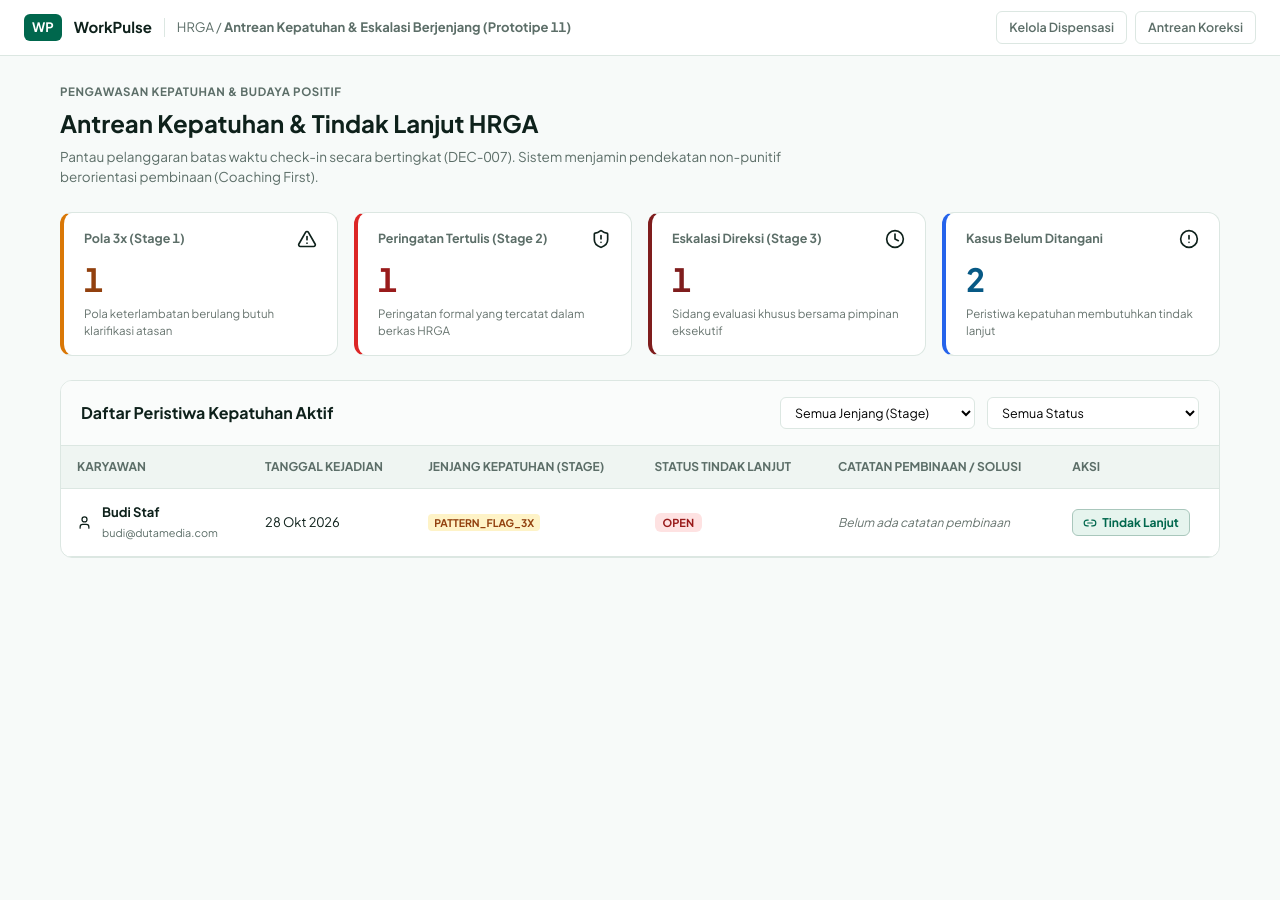
Scenario: ComplianceQueueView.vue (WP-EP08 / Prototipe 11 - Antrean Kepatuhan HRGA) › opens address follow-up modal when action button is clicked
Click the button with class "btn-action" at (1131, 522), box [1072,509,1190,536]
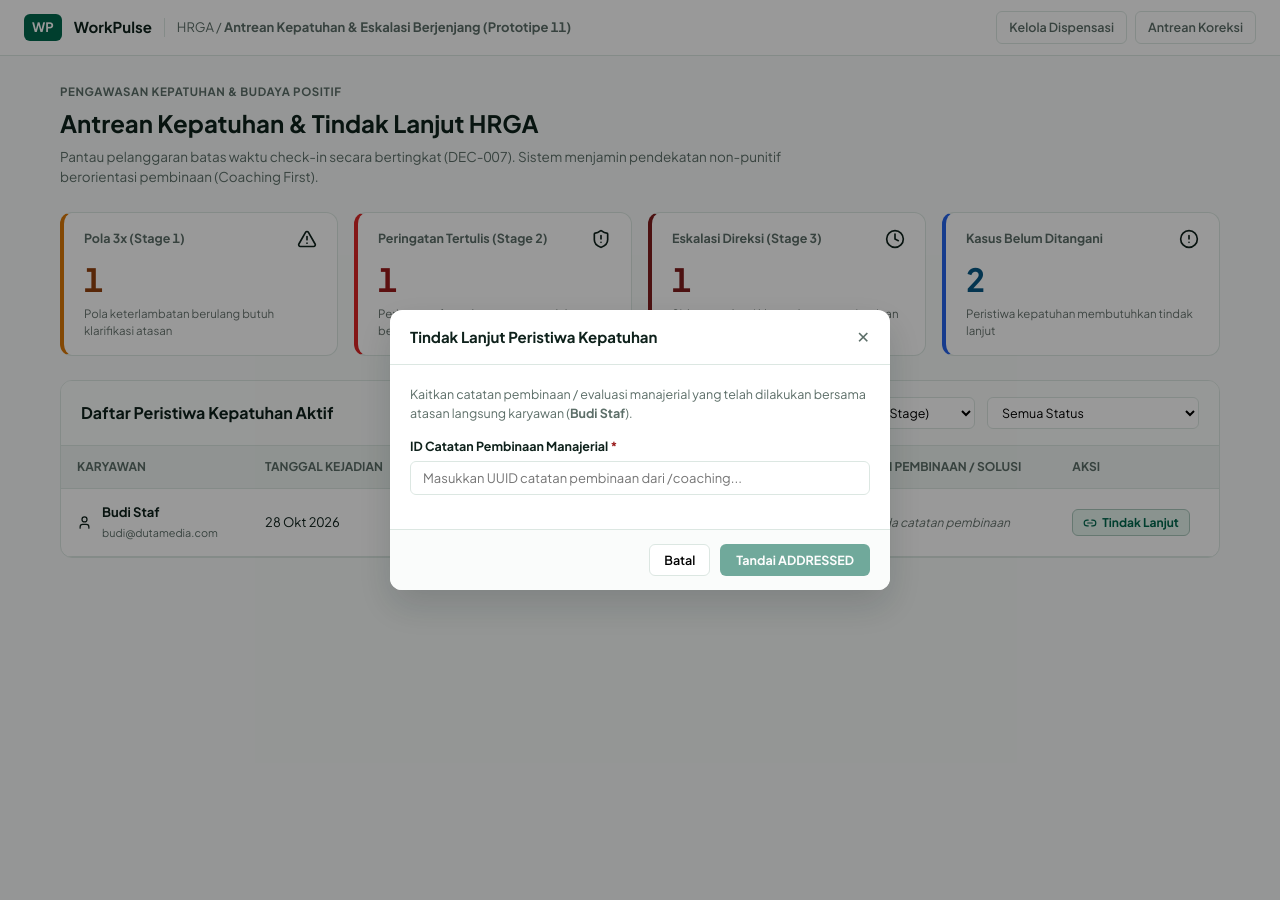
Result: the text "Tindak Lanjut Peristiwa Kepatuhan" is shown at [410,326,658,348]
